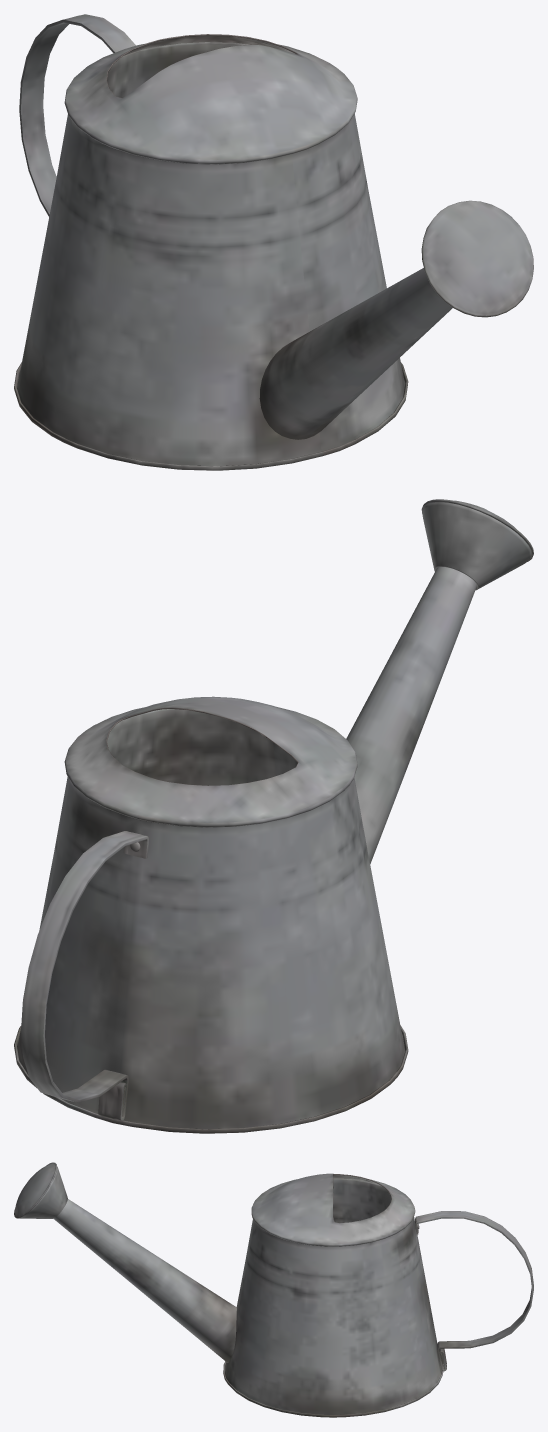
The model's file is watering_can_metal_01.glb.
The picture shows the model from 3 angles, top to bottom: view 1: azimuth 30°, elevation 25°; view 2: azimuth 150°, elevation 25°; view 3: azimuth 270°, elevation 25°; orthographic projection. The views are drawn at different scales.
Parts seen in each view (by area): view 1: watering_can_metal_01; view 2: watering_can_metal_01; view 3: watering_can_metal_01.
Boxes of the visible parts, x1=… form: watering_can_metal_01: x1=14, y1=14, x2=533, y2=470; watering_can_metal_01: x1=14, y1=499, x2=533, y2=1133; watering_can_metal_01: x1=14, y1=1162, x2=533, y2=1417.
Bounding box in the file's own units: 0.191 × 0.1968 × 0.4523.
Materials: 1 (1 with a texture image).
